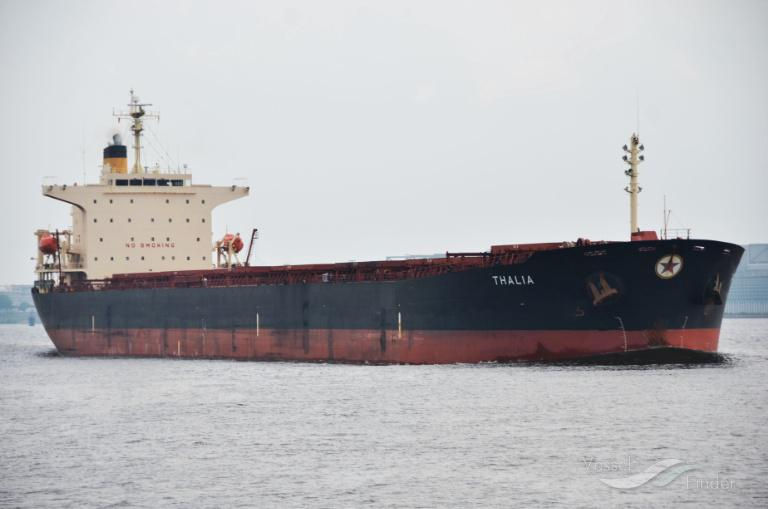OCR: (483, 270, 536, 295)
